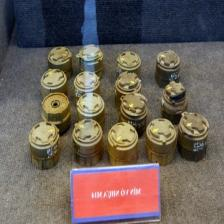M14: (179, 111, 208, 161), (30, 123, 61, 168), (75, 120, 102, 167), (147, 119, 176, 162), (110, 123, 138, 166), (72, 92, 108, 119), (156, 50, 182, 82), (43, 94, 70, 124), (119, 95, 148, 122), (162, 83, 188, 112), (42, 68, 67, 93), (79, 45, 103, 71), (116, 73, 142, 94), (48, 47, 72, 69), (116, 52, 141, 72), (75, 72, 100, 92)
